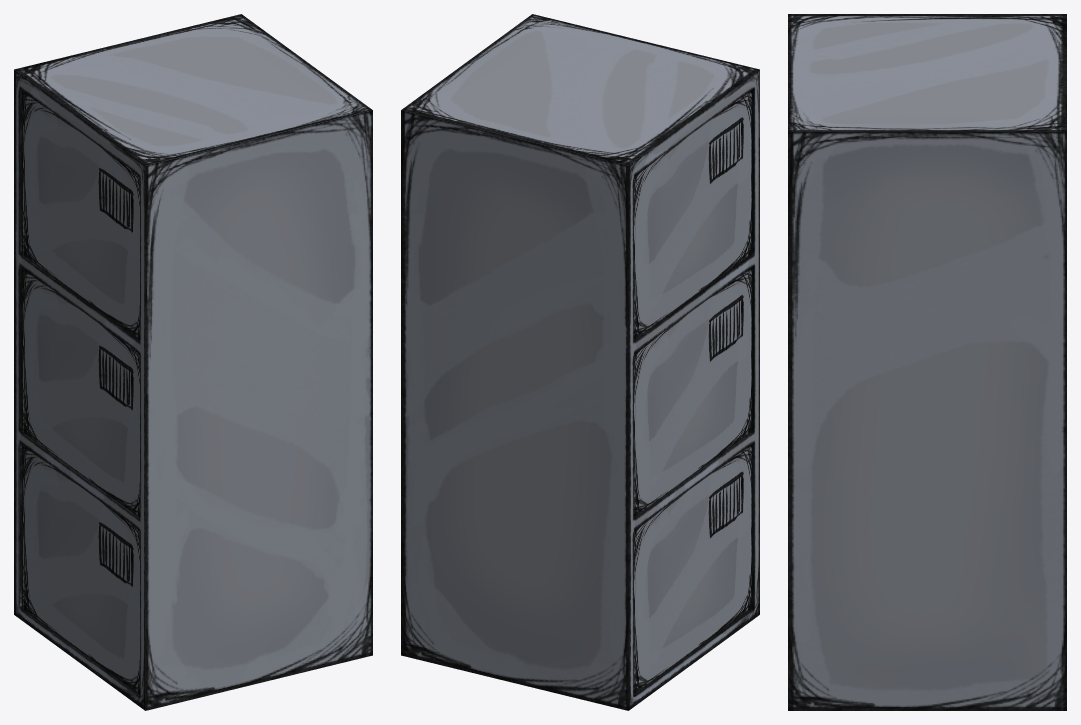
The model's file is drawers.fbx.
3 views of the same model, side by side, from view 1: azimuth 30°, elevation 25°; view 2: azimuth 150°, elevation 25°; view 3: azimuth 270°, elevation 25° (orthographic). The views are drawn at different scales.
Parts seen in each view (by area): view 1: drawers COPY, drawer_1.003, drawer_1.005, drawer_1.004; view 2: drawers COPY, drawer_1.003, drawer_1.005, drawer_1.004; view 3: drawers COPY.
Boxes of the visible parts, x1,y1,x2,y2 form: drawers COPY: (14, 14, 372, 710); drawer_1.003: (21, 444, 139, 694); drawer_1.005: (21, 89, 139, 340); drawer_1.004: (21, 267, 139, 517); drawers COPY: (401, 14, 759, 710); drawer_1.003: (634, 444, 752, 694); drawer_1.005: (634, 89, 752, 340); drawer_1.004: (634, 267, 752, 517); drawers COPY: (788, 14, 1066, 710).
Bounding box in the file's own units: 0.803 × 1.84 × 0.803.
Materials: 2 (2 with a texture image).
